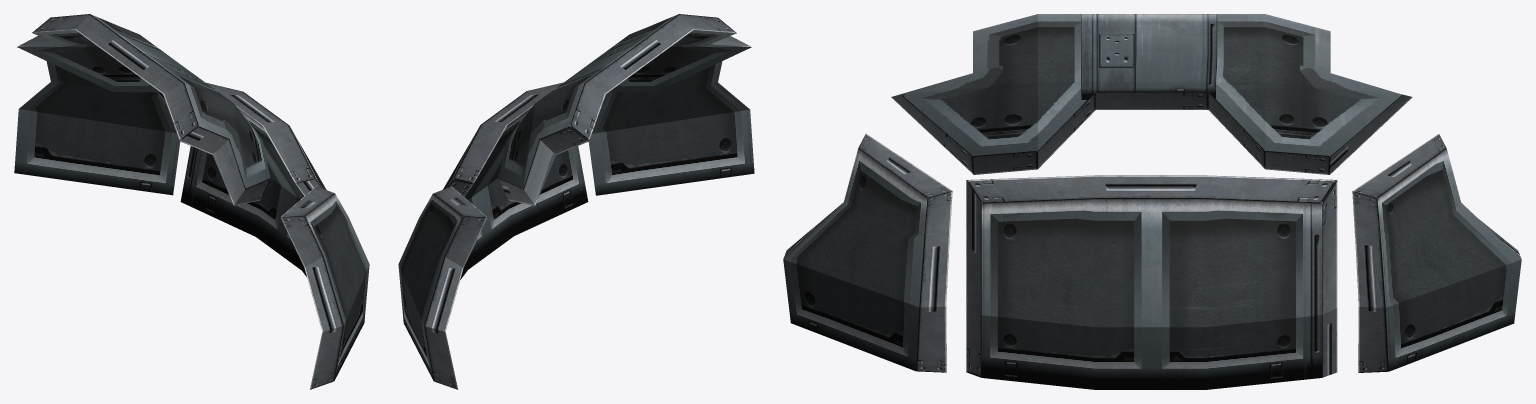
The model's file is light_unit_shield.obj.
3 views of the same model, side by side, from view 1: azimuth 30°, elevation 25°; view 2: azimuth 150°, elevation 25°; view 3: azimuth 270°, elevation 25° (orthographic). The views are drawn at different scales.
Visible parts, largest first — view 1: polySurface4; view 2: polySurface4; view 3: polySurface4.
Part boxes in pixels (x1,y1,x2,y2): polySurface4: [14, 14, 369, 389]; polySurface4: [398, 14, 754, 389]; polySurface4: [783, 14, 1521, 389].
Size of the model in its own units: 7.35 by 8.38 by 19.5.
Materials: 1 (1 with a texture image).
